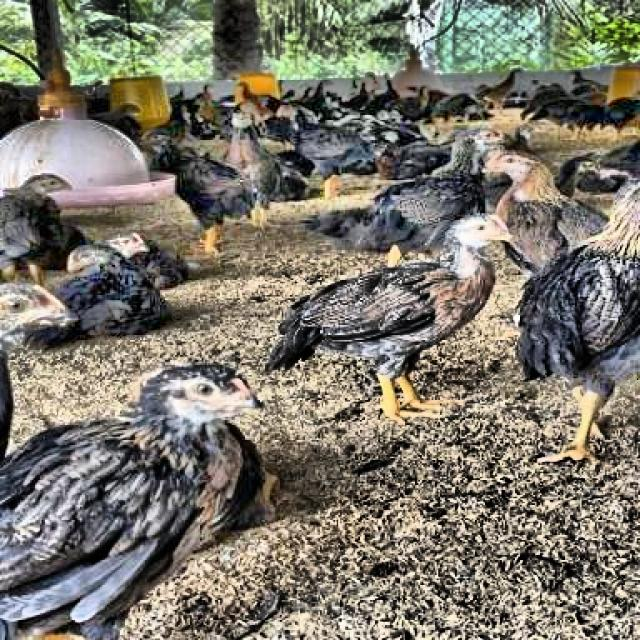Healthy: (6, 293, 36, 320), (194, 380, 224, 402)
